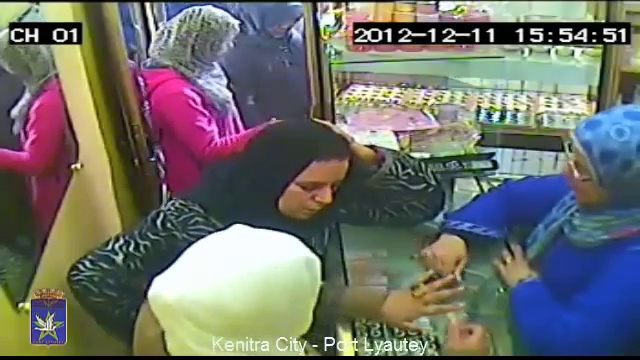face: (275, 160, 335, 216), (561, 141, 606, 208)
